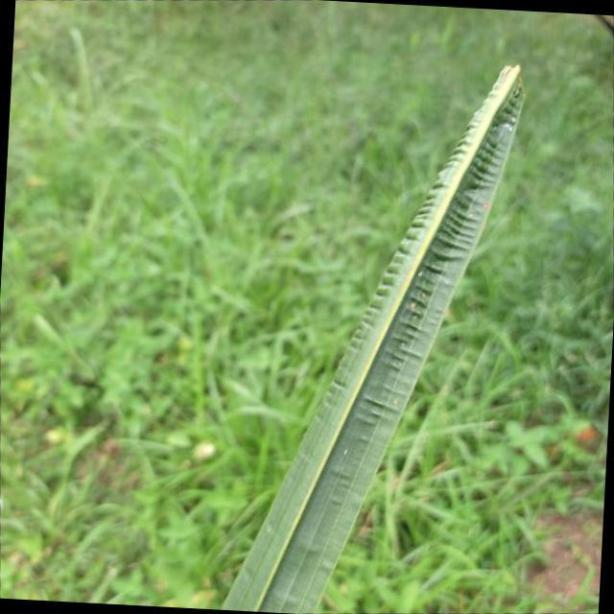Boron: (227, 46, 528, 614)
